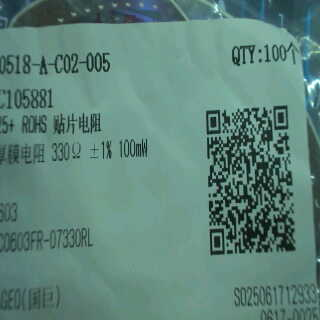330R: (50, 141, 86, 162)
